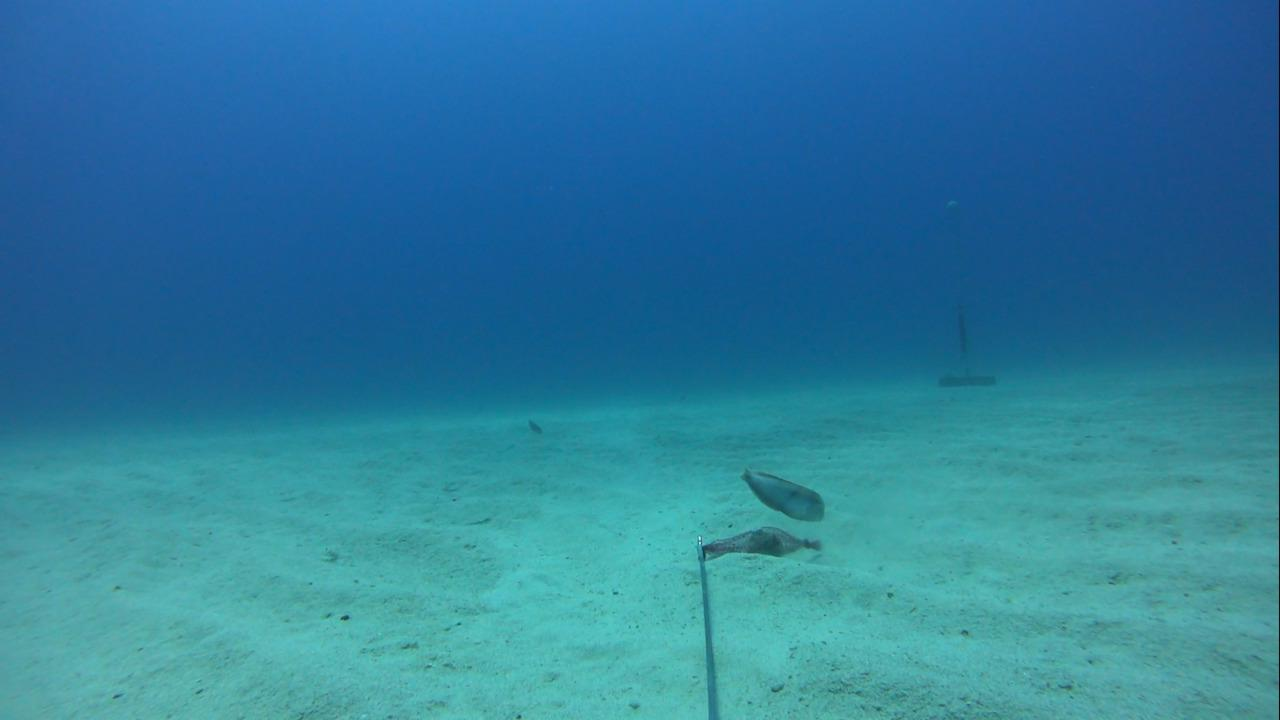raor: (734, 465, 829, 527)
